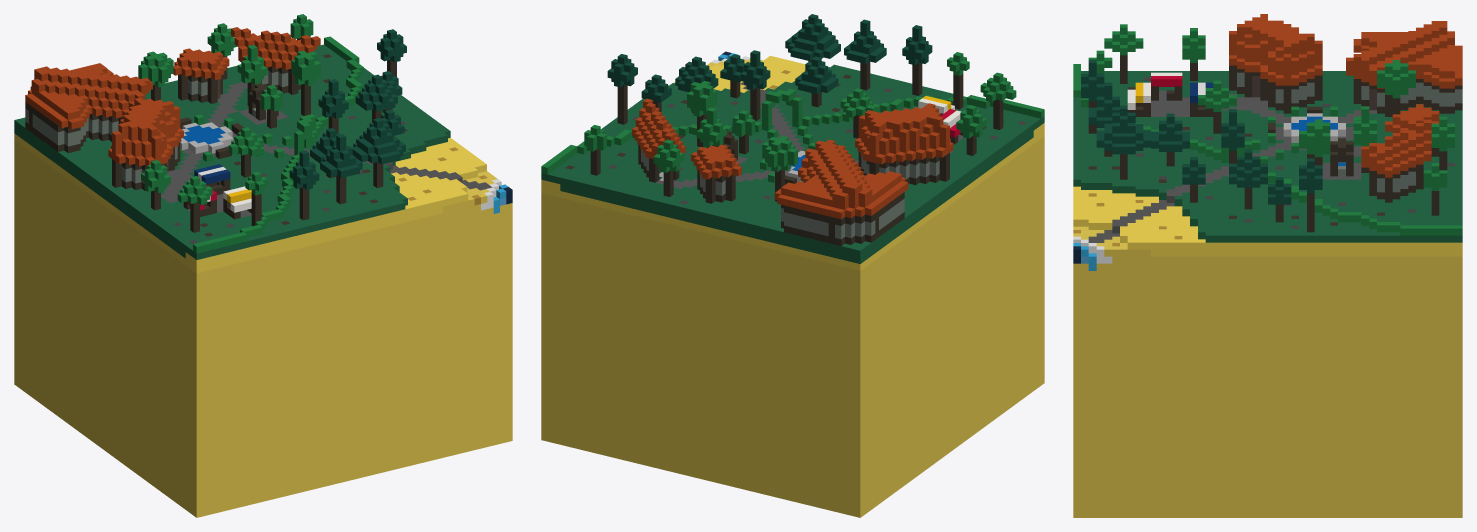
Rendered from wall4 cкин.obj.
3 views of the same model, side by side, from view 1: azimuth 30°, elevation 25°; view 2: azimuth 150°, elevation 25°; view 3: azimuth 270°, elevation 25° (orthographic). The views are drawn at different scales.
Size of the model in its own units: 5 by 5 by 5.
1 material, 1 textured.
